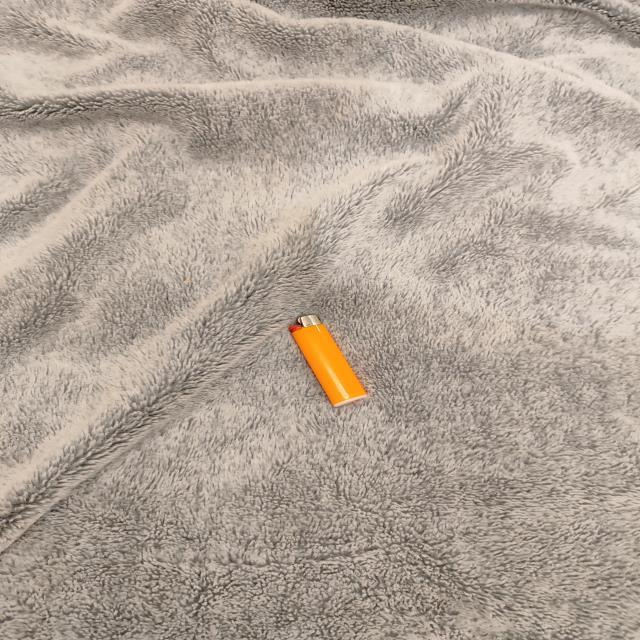lighter: (289, 316, 366, 406)
